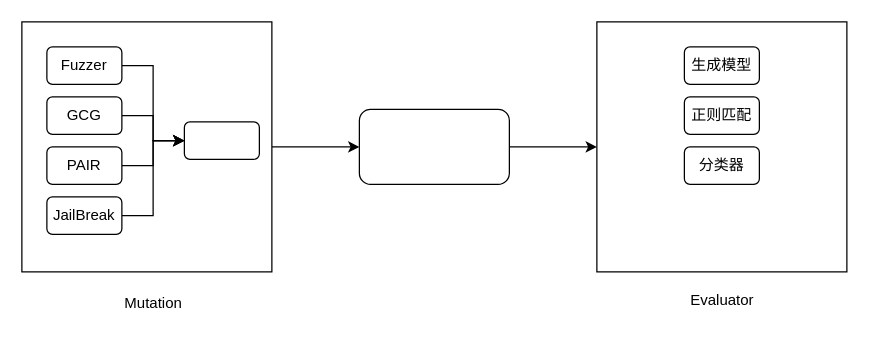
This 869x344 diagram has some shape labels left out. The shapes that lost their labels are listed below. From the top down, each one's centre as x and y in pixels, then its label:
At pixel 221 140: "Selector".
At pixel 433 146: "变异后提示词".
